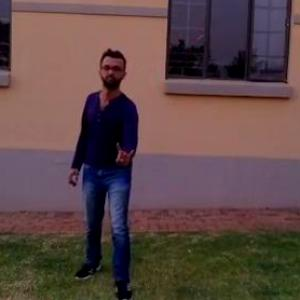takeoff-hand: (109, 136, 142, 168)
